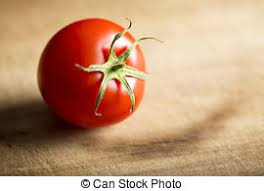tomato: (38, 20, 147, 127)
